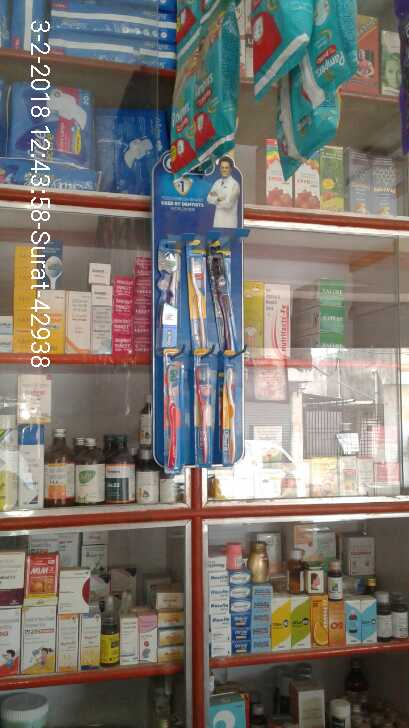pharmacy: (171, 4, 243, 173), (187, 364, 217, 476), (215, 255, 242, 357), (156, 239, 180, 352), (162, 360, 184, 474), (219, 367, 244, 460), (191, 243, 208, 358)
